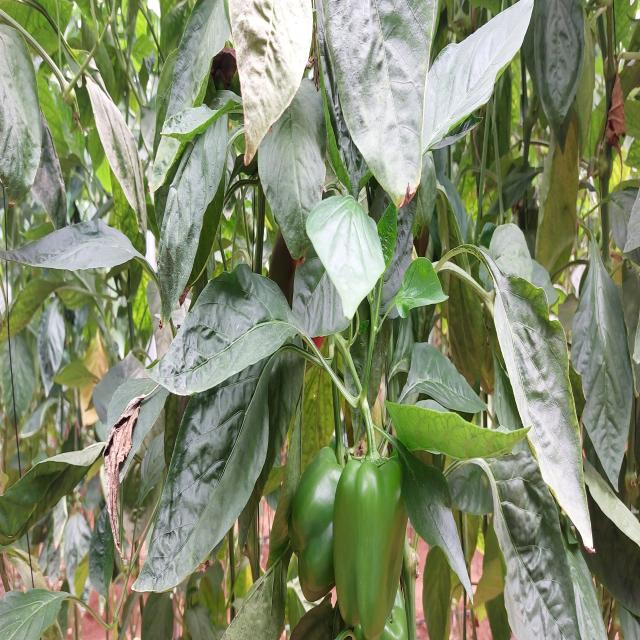Green--Not-ready-to-harvest: (332, 457, 413, 640), (287, 461, 348, 588)
